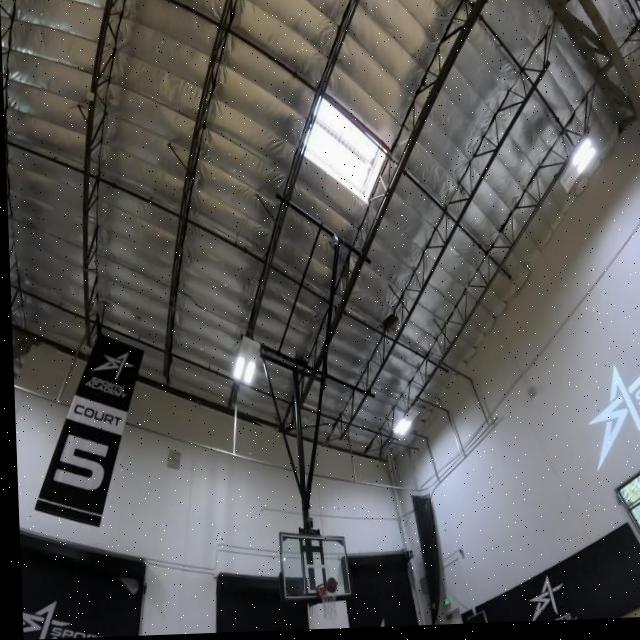hoop: (265, 577, 486, 588), (311, 572, 353, 629)
